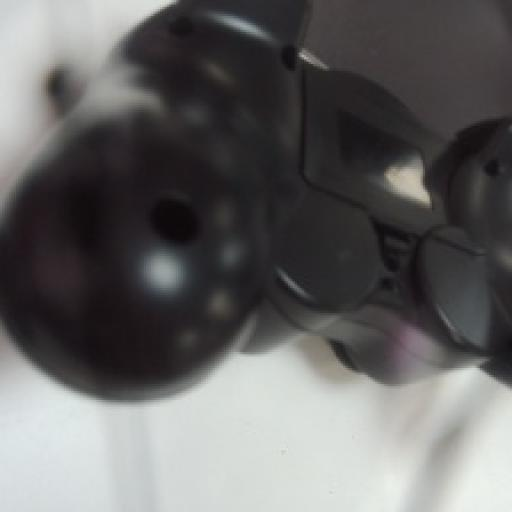game pad: (0, 0, 510, 395)
